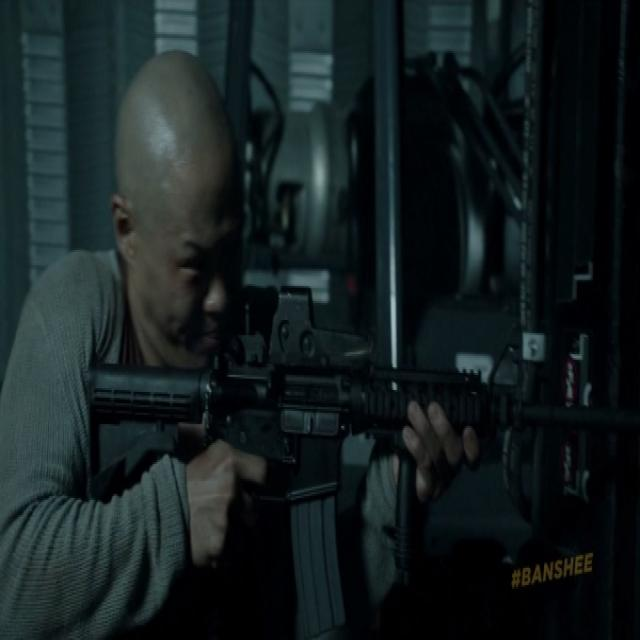rifle: (86, 278, 640, 640)
